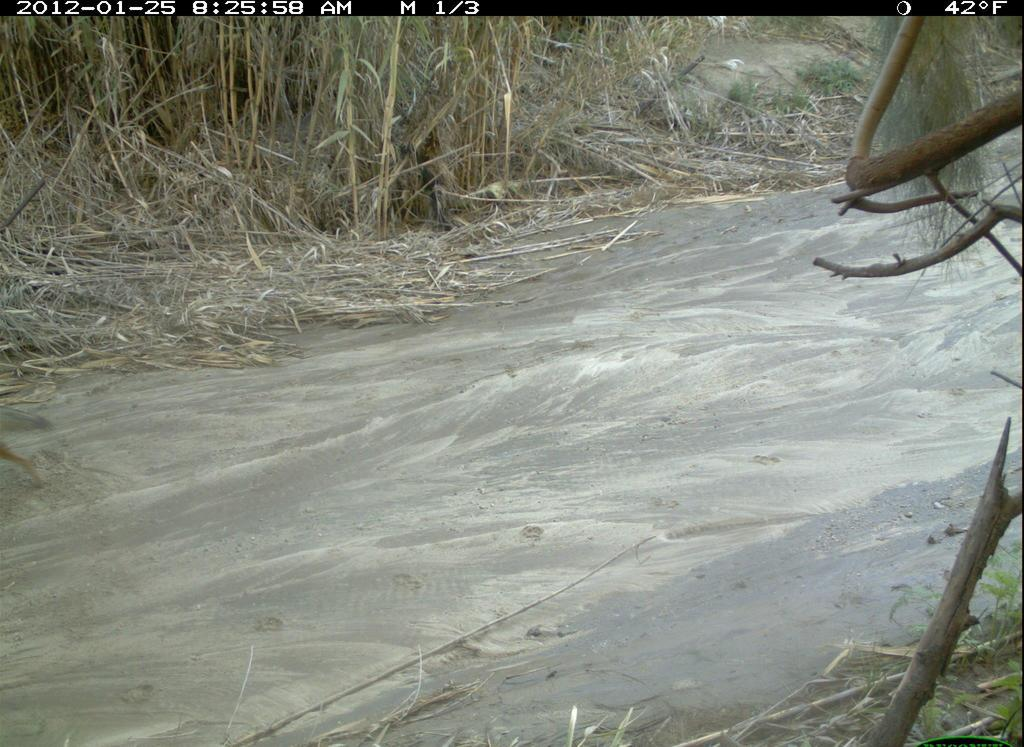coyote: (2, 406, 58, 495)
